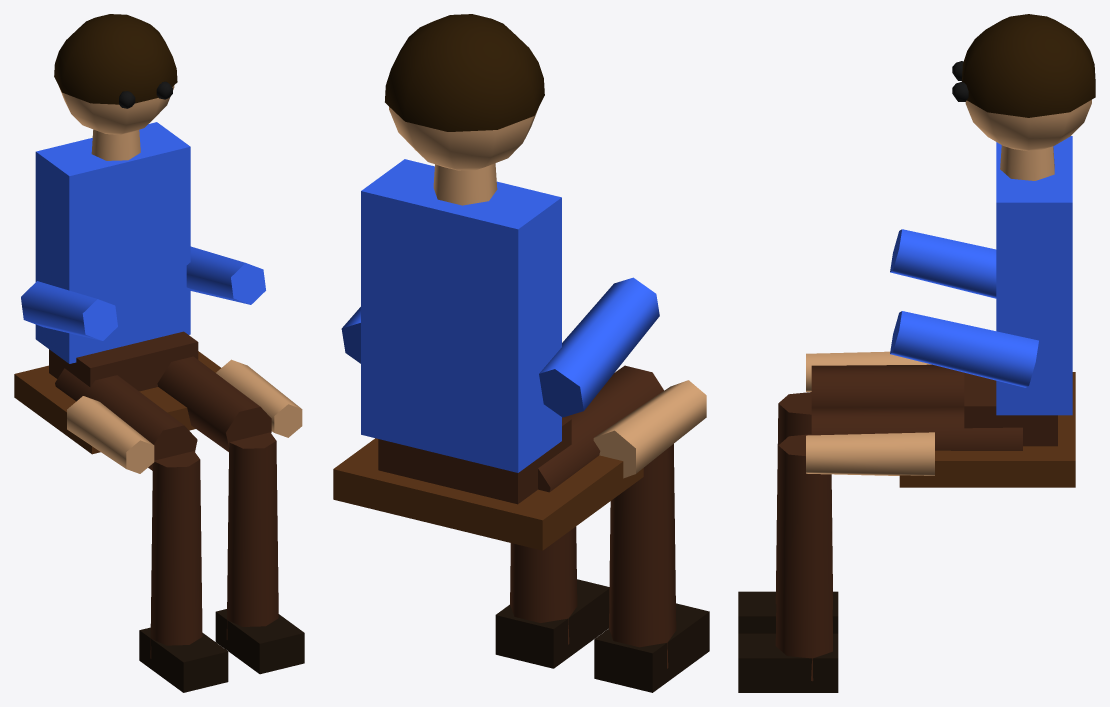
Rendered from crowd-seated-21.glb.
3 renders of one model, left to right at view 1: azimuth 30°, elevation 25°; view 2: azimuth 150°, elevation 25°; view 3: azimuth 270°, elevation 25°, orthographic. The views are drawn at different scales.
Parts seen in each view (by area): view 1: Torso, Left Shin, Right Shin, Hair Cap, Right Thigh, Left Thigh, Hips, Left Upper Arm, Left Shoe, Right Shoe, Left Lower Arm, Bench Seat (+4 smaller); view 2: Torso, Hair Cap, Bench Seat, Left Shin, Left Upper Arm, Hips, Left Shoe, Right Shoe, Left Lower Arm, Right Shin, Left Thigh, Head (+2 smaller); view 3: Torso, Right Shin, Hair Cap, Right Upper Arm, Bench Seat, Left Thigh, Right Thigh, Right Lower Arm, Left Upper Arm, Right Shoe, Head, Hips (+4 smaller).
Part boxes in pixels (x1,y1,x2,y2): Torso: (35,122,190,363); Left Shin: (150,451,202,658); Right Shin: (226,432,278,639); Hair Cap: (54,14,177,104); Right Thigh: (157,356,271,451); Left Thigh: (55,368,197,470); Hips: (49,331,198,391); Left Upper Arm: (21,281,117,340); Left Shoe: (139,627,228,692); Right Shoe: (215,609,304,674); Left Lower Arm: (67,396,154,473); Bench Seat: (14,351,220,454); Torso: (361,159,561,472); Hair Cap: (385,14,544,131); Bench Seat: (333,438,643,550); Left Shin: (609,444,676,668); Left Upper Arm: (539,277,659,417); Hips: (378,417,571,504); Left Shoe: (594,603,709,692); Right Shoe: (495,579,609,668); Left Lower Arm: (593,380,706,478); Right Shin: (510,526,577,644); Left Thigh: (538,365,663,492); Head: (389,107,538,170); Torso: (996,136,1072,415); Right Shin: (775,434,832,681); Hair Cap: (962,14,1095,117); Right Upper Arm: (890,311,1038,387); Bench Seat: (899,372,1075,487); Left Thigh: (811,364,964,407); Right Thigh: (811,406,1022,450); Right Lower Arm: (806,432,934,475); Left Upper Arm: (890,229,996,298); Right Shoe: (738,633,838,692); Head: (965,99,1091,151); Hips: (964,372,1057,446).
Size of the model in its own units: 0.4097 by 1.2 by 0.6089.
